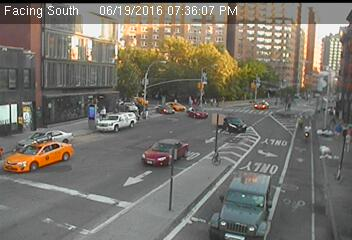neg: (206, 140, 227, 168), (299, 118, 318, 144), (282, 95, 294, 110)
pos: (331, 119, 346, 139), (339, 128, 351, 153), (98, 102, 109, 117)
